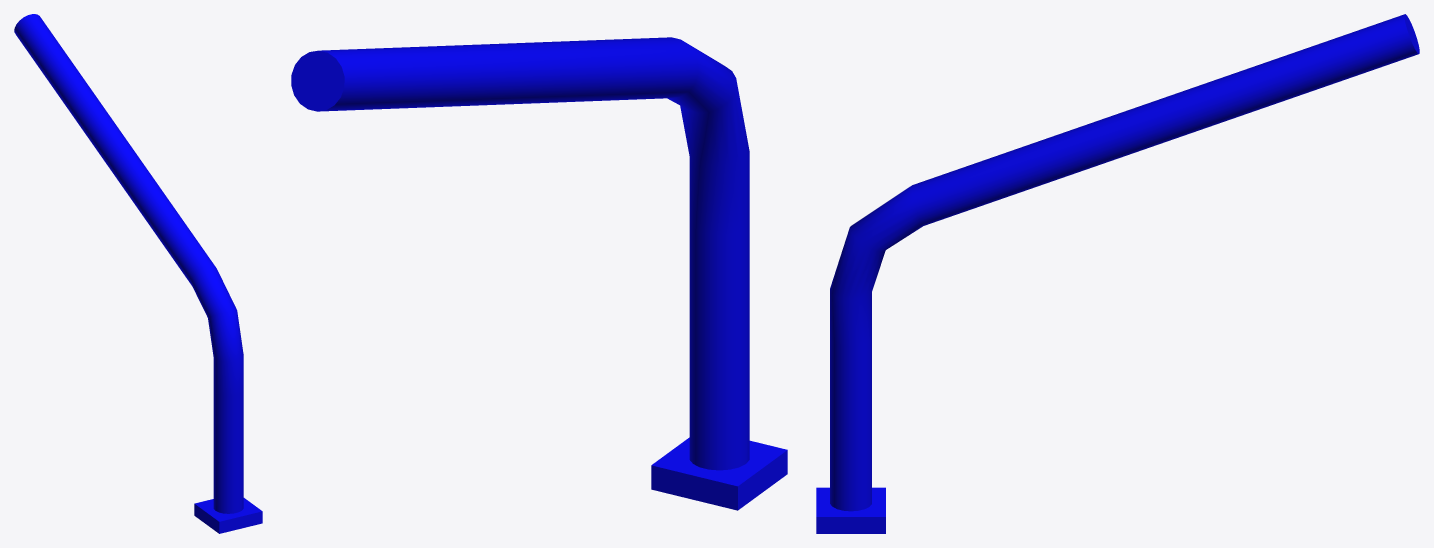
The model's file is Valla4.FBX.
3 views of the same model, side by side, from view 1: azimuth 30°, elevation 25°; view 2: azimuth 150°, elevation 25°; view 3: azimuth 270°, elevation 25° (orthographic). The views are drawn at different scales.
Visible parts, largest first — view 1: Valla4; view 2: Valla4; view 3: Valla4.
Part boxes in pixels (bbox=[...]): Valla4: bbox=[14, 14, 262, 533]; Valla4: bbox=[291, 37, 787, 510]; Valla4: bbox=[816, 14, 1419, 533].
Size of the model in its own units: 8.35 by 66.4 by 72.21.
